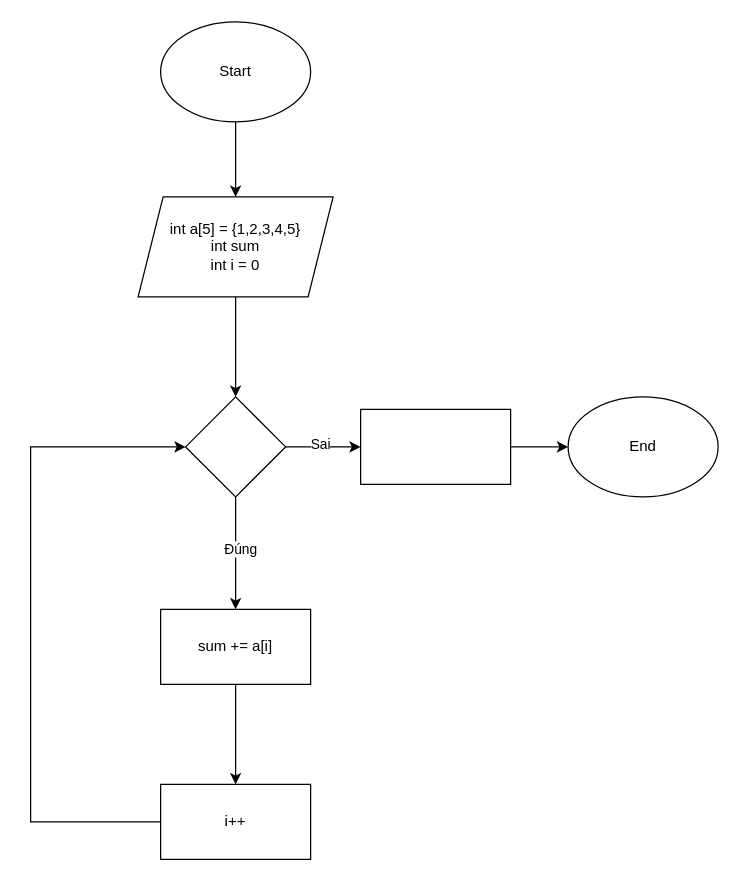
Some shapes in this 740 by 881 pixel diagram are drawn without their labels. The box of each missing label's shape, as (x1, y1, x2, y2) in pixels:
i < sizeof(a): (184, 396, 286, 497)
sum: (359, 408, 511, 484)
